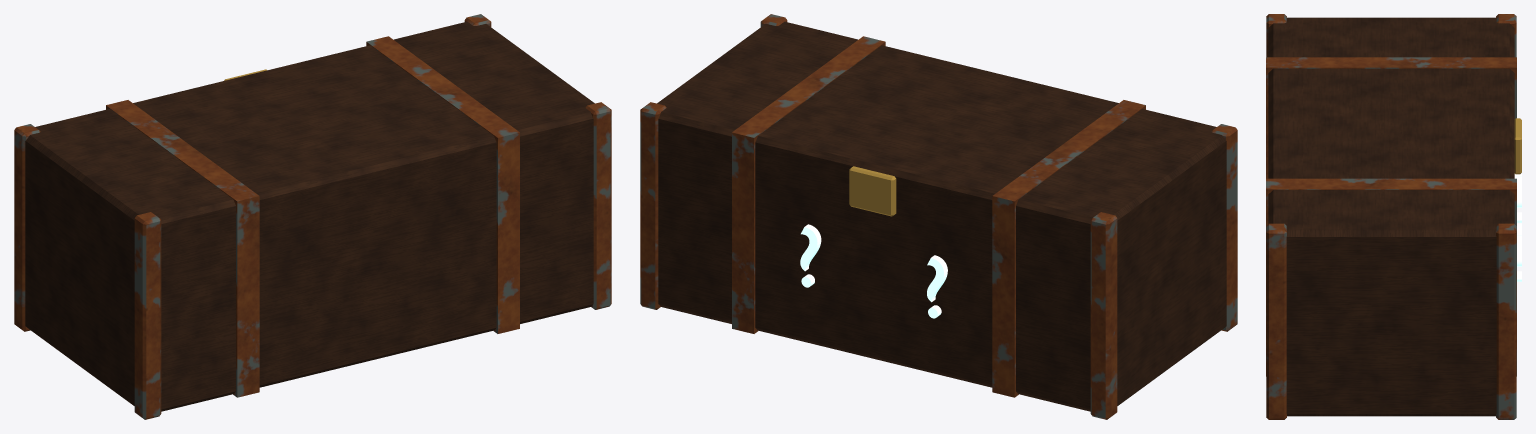
File: mystery_box.gltf
The picture shows the model from 3 angles, left to right: view 1: azimuth 30°, elevation 25°; view 2: azimuth 150°, elevation 25°; view 3: azimuth 270°, elevation 25°; orthographic projection. The views are drawn at different scales.
Visible parts, largest first — view 1: MysteryBox; view 2: MysteryBox, Q1, Q-1; view 3: MysteryBox, Q1.
Boxes of the visible parts, bbox=[...] form: MysteryBox: bbox=[14, 14, 611, 419]; MysteryBox: bbox=[640, 14, 1237, 419]; Q1: bbox=[800, 224, 821, 287]; Q-1: bbox=[927, 255, 947, 318]; MysteryBox: bbox=[1266, 14, 1521, 419]; Q1: bbox=[1517, 223, 1521, 281].
Bounding box in the file's own units: 1.26 × 0.51 × 0.624.
4 materials, 2 textured.
